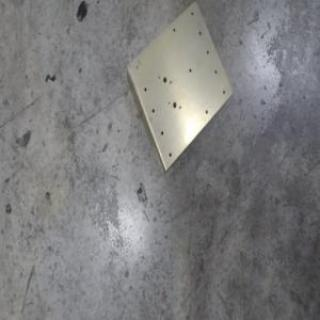MetalSheettrack_idkeyframe: (123, 0, 232, 175)
